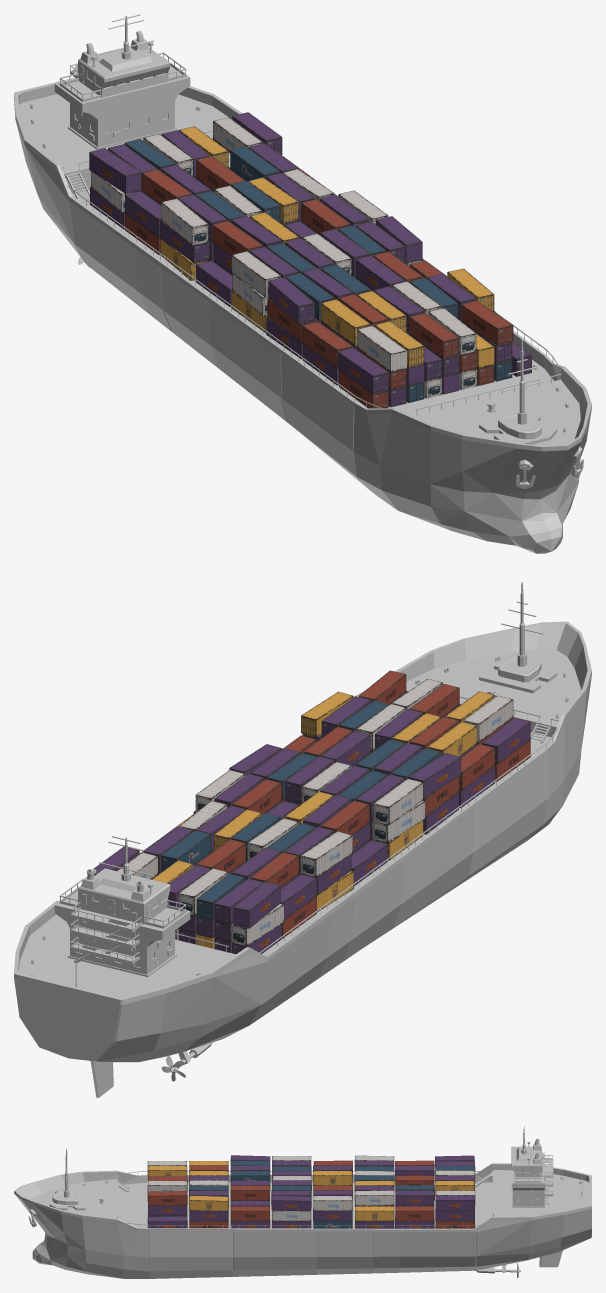
Rendered from SM_Veh_ContainerShip_01.fbx.
3 renders of one model, top to bottom at view 1: azimuth 30°, elevation 25°; view 2: azimuth 150°, elevation 25°; view 3: azimuth 270°, elevation 25°, orthographic. The views are drawn at different scales.
Parts seen in each view (by area): view 1: SM_Veh_ContainerShip_01, SM_Veh_ContainerShip_Containers_01; view 2: SM_Veh_ContainerShip_01, SM_Veh_ContainerShip_Containers_01; view 3: SM_Veh_ContainerShip_01, SM_Veh_ContainerShip_Containers_01.
Part boxes in pixels (left/top/right/bottom): SM_Veh_ContainerShip_01: left=14, top=14, right=591, bottom=553; SM_Veh_ContainerShip_Containers_01: left=89, top=112, right=531, bottom=408; SM_Veh_ContainerShip_01: left=14, top=582, right=591, bottom=1097; SM_Veh_ContainerShip_Containers_01: left=93, top=670, right=530, bottom=954; SM_Veh_ContainerShip_01: left=14, top=1126, right=591, bottom=1278; SM_Veh_ContainerShip_Containers_01: left=147, top=1155, right=475, bottom=1228.
Bounding box in the file's own units: 3026 × 3479 × 13211.
